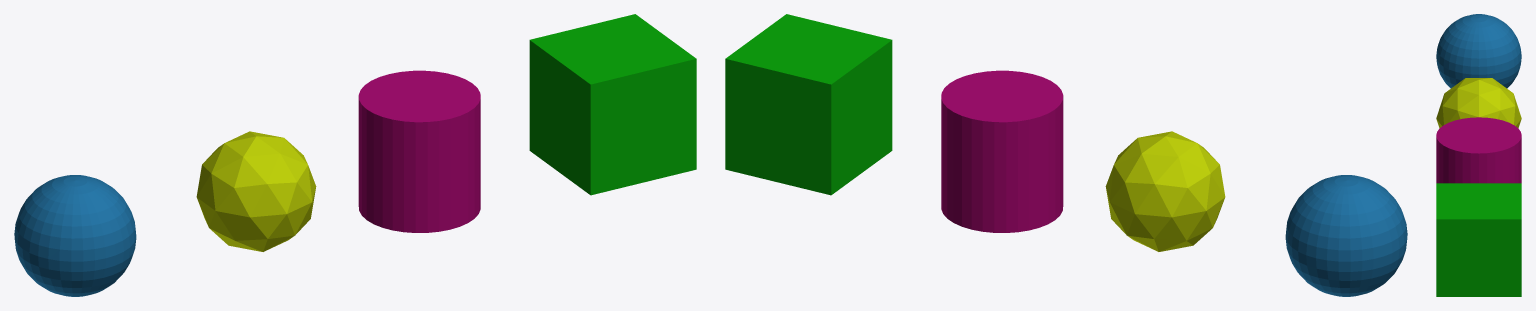
File: obj_moreMeshes.obj
3 renders of one model, left to right at view 1: azimuth 30°, elevation 25°; view 2: azimuth 150°, elevation 25°; view 3: azimuth 270°, elevation 25°, orthographic. The views are drawn at different scales.
Visible parts, largest first — view 1: Cube, Cylinder, Sphere, Icosphere; view 2: Cube, Cylinder, Sphere, Icosphere; view 3: Cube, Cylinder, Sphere, Icosphere.
Boxes of the visible parts, left/top/right/bottom form: Cube: left=529, top=14, right=696, bottom=195; Cylinder: left=358, top=70, right=480, bottom=232; Sphere: left=14, top=175, right=136, bottom=296; Icosphere: left=196, top=131, right=316, bottom=251; Cube: left=725, top=14, right=892, bottom=195; Cylinder: left=941, top=70, right=1063, bottom=232; Sphere: left=1285, top=175, right=1407, bottom=296; Icosphere: left=1105, top=131, right=1225, bottom=251; Cube: left=1436, top=183, right=1521, bottom=296; Cylinder: left=1436, top=117, right=1521, bottom=183; Sphere: left=1436, top=14, right=1521, bottom=88; Icosphere: left=1436, top=78, right=1521, bottom=128.
Size of the model in its own units: 6.08 by 1 by 1.
